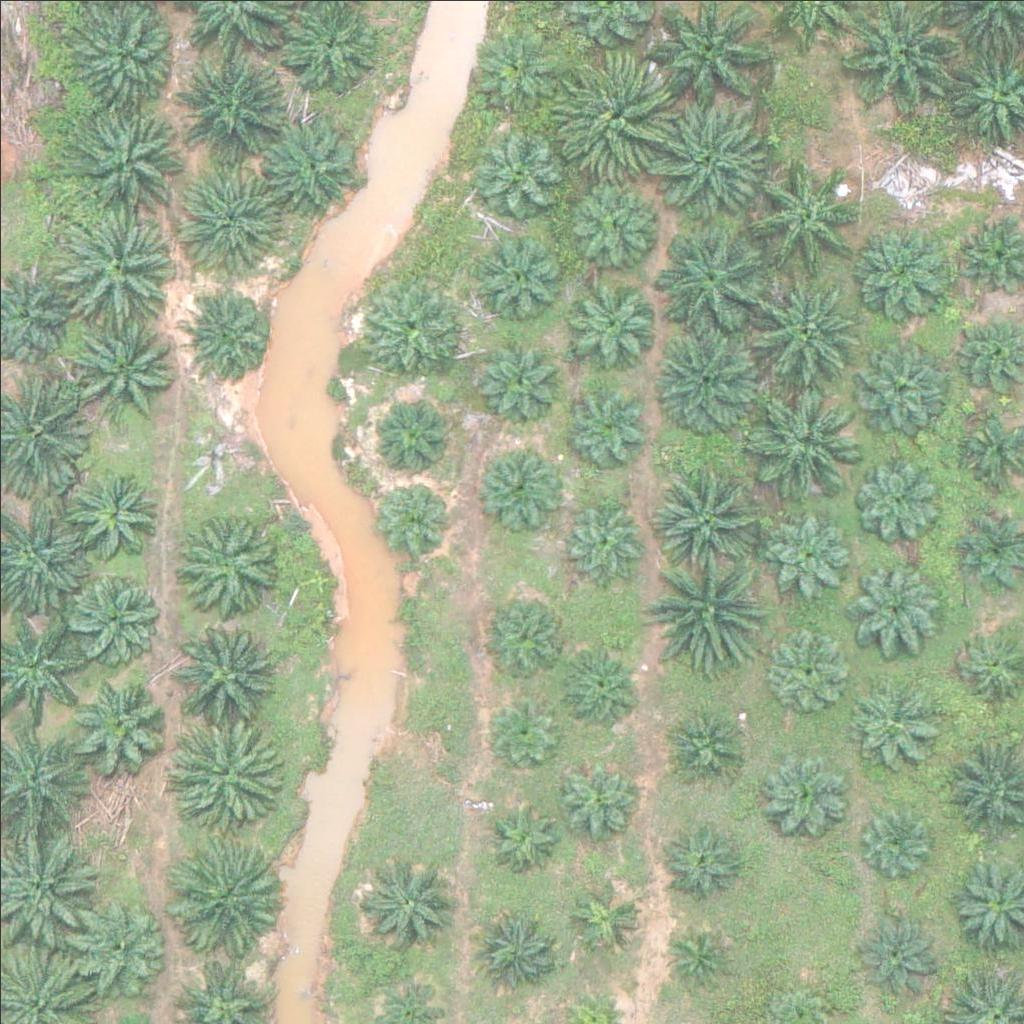Kelapa_Sawit: (62, 2, 175, 116), (71, 97, 184, 211), (173, 161, 286, 275), (167, 843, 280, 957), (656, 324, 769, 438), (171, 720, 284, 833), (557, 61, 670, 174), (649, 548, 762, 661), (652, 227, 765, 340), (175, 53, 287, 167), (165, 610, 277, 724), (646, 99, 758, 213), (61, 321, 173, 434), (57, 207, 169, 320), (652, 455, 764, 568), (745, 161, 857, 274), (745, 270, 857, 383), (749, 382, 861, 495), (67, 566, 167, 667), (63, 470, 163, 571), (174, 514, 274, 615), (359, 850, 459, 951), (361, 281, 461, 382), (469, 220, 569, 321), (852, 327, 952, 428), (261, 113, 361, 214), (70, 674, 170, 774), (559, 175, 659, 275), (555, 271, 655, 371), (853, 222, 953, 322), (67, 897, 167, 997), (554, 756, 642, 845), (656, 813, 744, 901), (668, 697, 756, 785), (484, 590, 572, 678), (470, 29, 558, 117), (561, 380, 649, 468), (852, 554, 940, 642), (852, 453, 940, 541), (762, 621, 850, 709), (853, 908, 941, 996), (468, 904, 556, 992), (186, 293, 273, 381), (556, 642, 643, 730), (563, 494, 650, 582), (474, 437, 561, 525), (367, 391, 454, 479), (473, 121, 560, 209), (478, 342, 565, 430), (761, 750, 848, 838), (764, 508, 851, 596), (850, 677, 937, 765), (858, 799, 933, 875), (485, 689, 560, 765), (376, 476, 451, 552), (662, 916, 737, 992), (570, 879, 645, 954), (482, 795, 557, 870)
